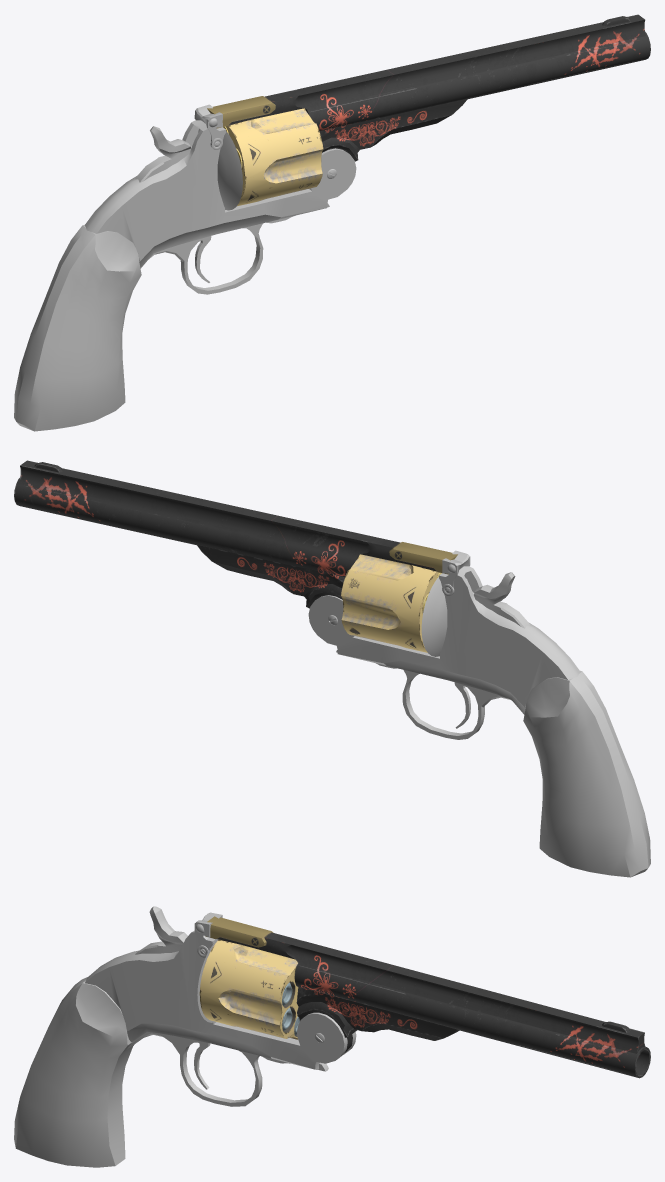
Rendered from schofield_revolver.fbx.
3 views of the same model, one above another, from view 1: azimuth 30°, elevation 25°; view 2: azimuth 150°, elevation 25°; view 3: azimuth 330°, elevation 25° (orthographic).
Parts seen in each view (by area): view 1: Cube, Vert.001, Vert.003, Cube.001, Vert.004; view 2: Cube, Vert.001, Vert.003, Cube.001, Vert.004; view 3: Cube, Vert.001, Vert.003, Cube.001, Vert.004.
Boxes of the visible parts, x1,y1,x2,y2 form: Cube: (207, 14, 650, 161); Vert.001: (14, 224, 141, 431); Vert.003: (84, 104, 356, 294); Cube.001: (226, 108, 323, 206); Vert.004: (135, 126, 191, 182); Cube: (14, 460, 457, 608); Vert.001: (523, 670, 650, 877); Vert.003: (308, 550, 580, 739); Cube.001: (341, 554, 439, 652); Vert.004: (474, 572, 529, 628); Cube: (205, 916, 650, 1078); Vert.001: (14, 977, 134, 1167); Vert.003: (85, 912, 356, 1106); Cube.001: (199, 939, 298, 1039); Vert.004: (135, 906, 187, 954).
Size of the model in its own units: 485 by 203 by 61.63.
